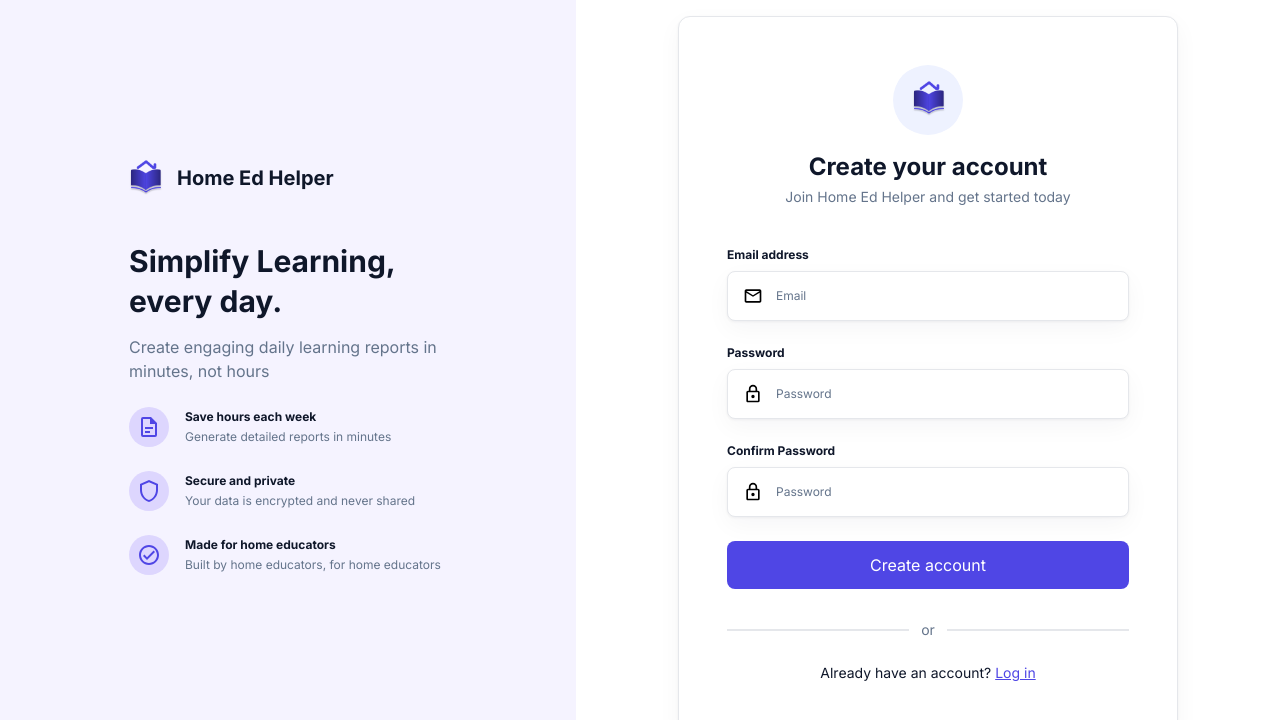
Test: signup page › throws an error if user already exists
In the field with placeholder "Email": coordinates (928, 296) top-left (727, 271), bottom-right (1129, 321), type "email@example.com"
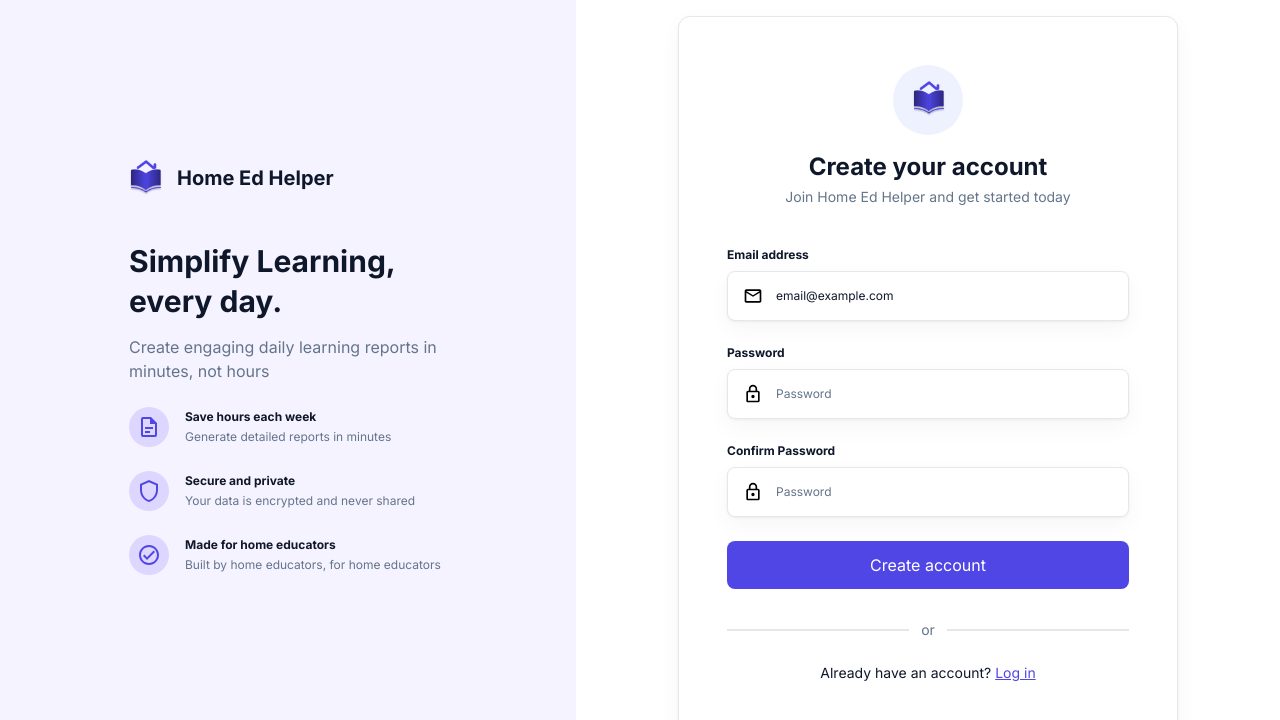
In the 1st password field with placeholder "Password": coordinates (928, 394) top-left (727, 369), bottom-right (1129, 419), type "password123"
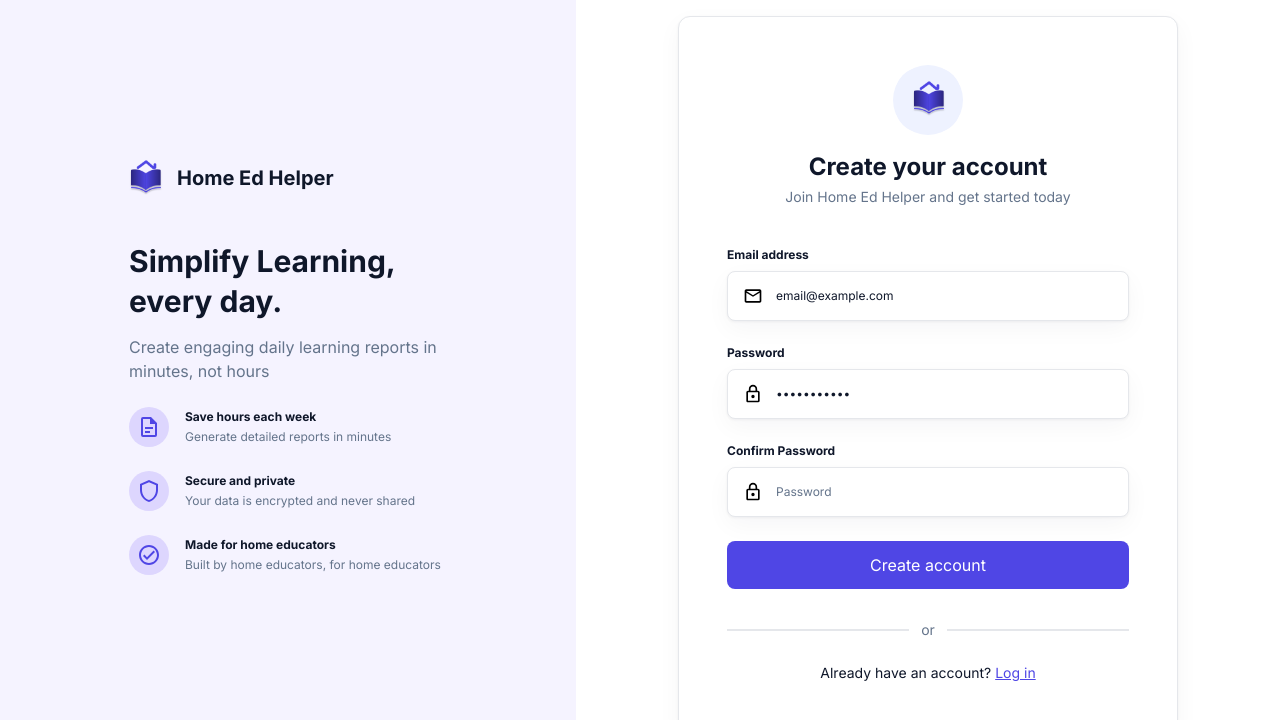
In the password field with placeholder "Password": coordinates (928, 492) top-left (727, 467), bottom-right (1129, 517), type "password123"
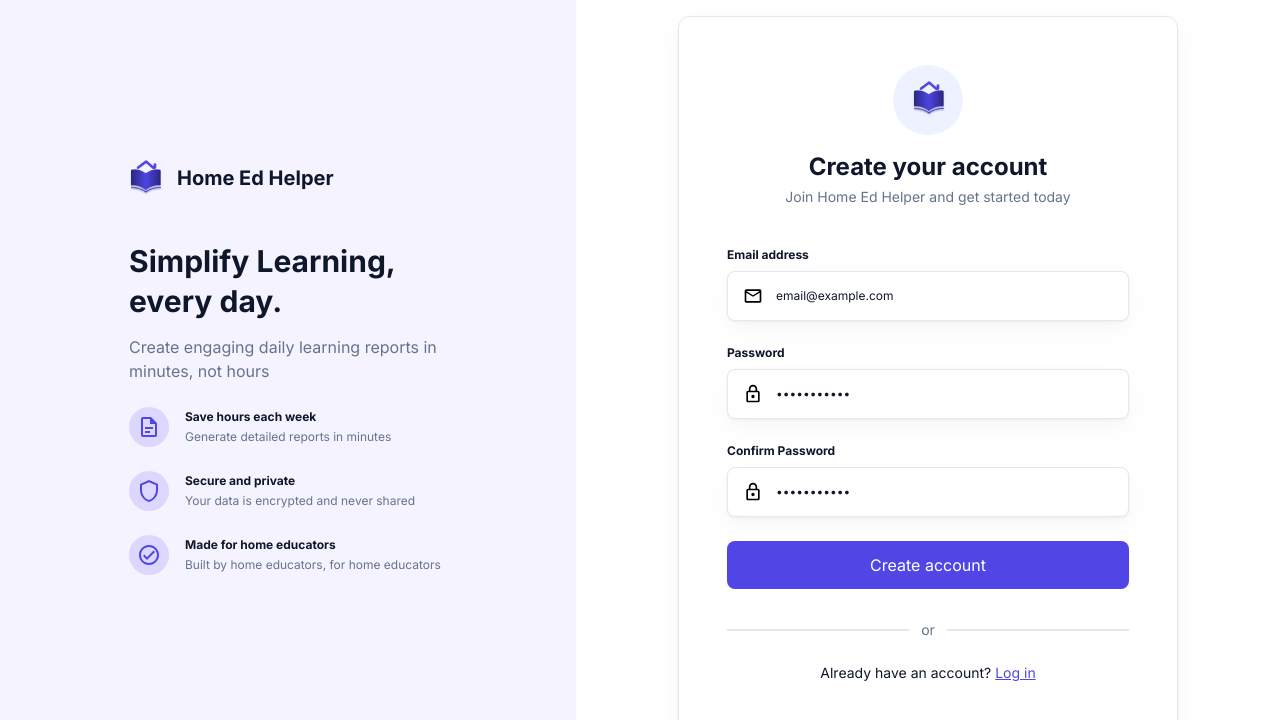
Click the button: coordinates (928, 565) top-left (727, 541), bottom-right (1129, 589)
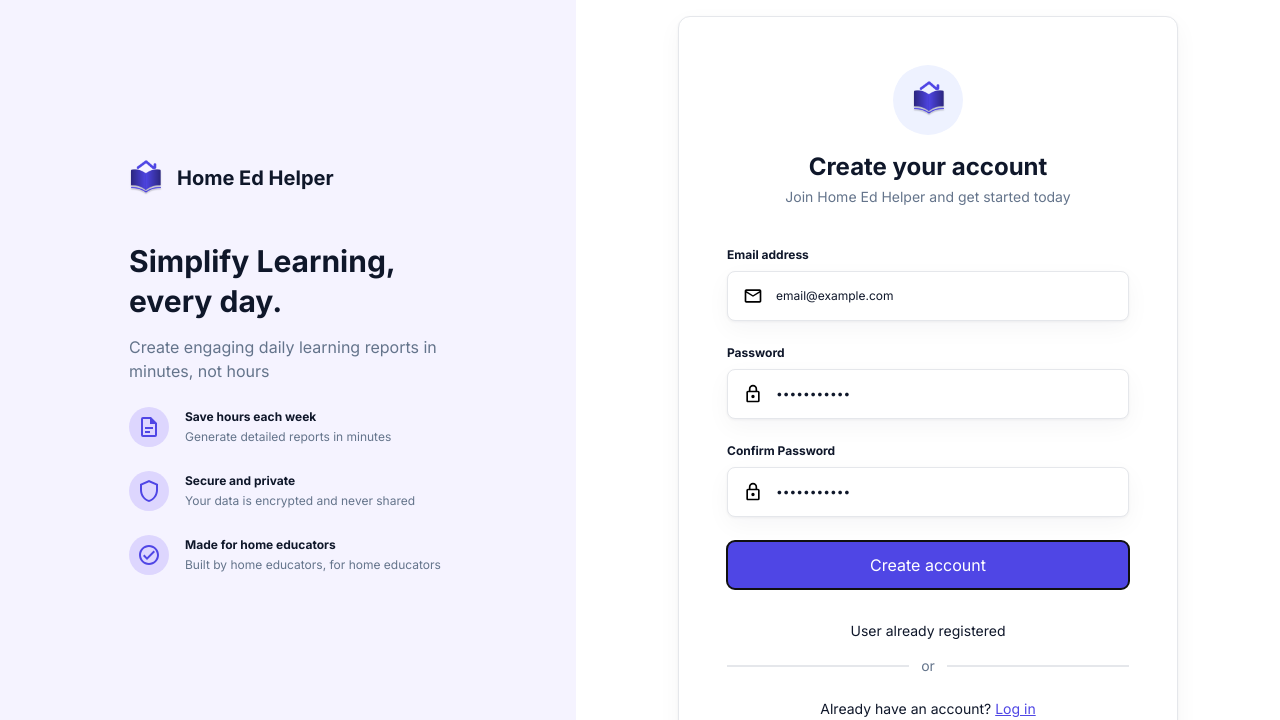
Check: the text "User already registered" is shown, box top-left (850, 621), bottom-right (1006, 641)
